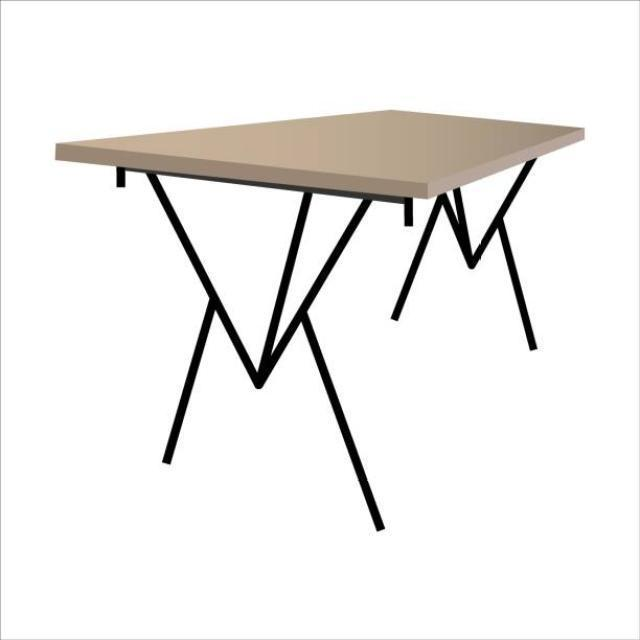table: (53, 106, 584, 532)
